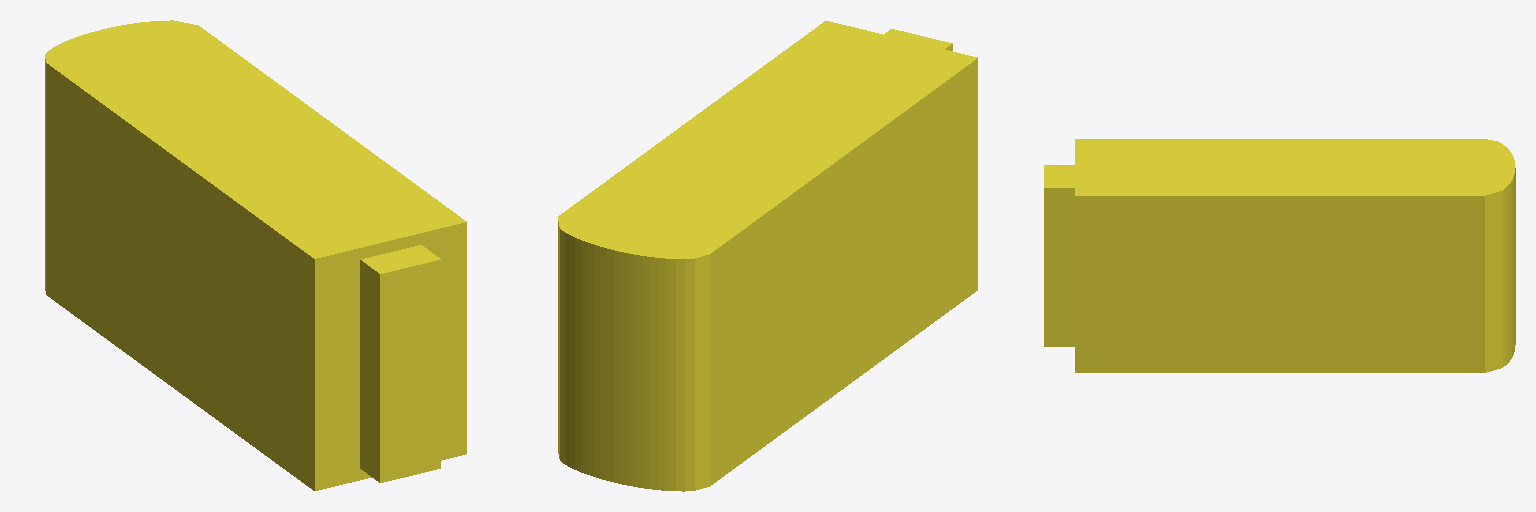
URDF robot description (2v2_65.35_50.50_1.1_63):
<?xml version="1.0" ?>
<robot name="2v2_65.35_50.50_1.1_63">

    <link name="palm">
        <visual>
            <origin rpy="0 0 0" xyz="0 0 0"/>
            <geometry>
                <mesh filename="obj_files/palm.obj" scale="1 1 1"/>
            </geometry>
        </visual>
        <collision>
            <geometry>
                <mesh filename="obj_files/palm_collision.obj" scale="1 1 1"/>
            </geometry>
        </collision>
    </link>

    <link name="finger0_segment0">
        <visual>
            <origin rpy="0 0 0" xyz="0 0 0"/>
            <geometry>
                <mesh filename="obj_files/finger0_segment0.obj" scale="1 1 1"/>
            </geometry>
        </visual>
        <collision>
            <geometry>
                <mesh filename="obj_files/finger0_segment0_collision.obj" scale="1 1 1"/>
            </geometry>
        </collision>
    </link>

    <joint name="finger0_segment0_joint" type="revolute">
        <parent link="palm"/>
        <child link="finger0_segment0"/>
        <origin rpy="0 0 0" xyz="0.03175 0 0.0"/>
        <axis xyz="0 0 1"/>
        <limit effort="1000.0" lower="-3.14" upper="3.14" velocity="0.5"/>
    </joint>

    <link name="finger0_segment1">
        <visual>
            <origin rpy="0 0 0" xyz="0 0 0"/>
            <geometry>
                <mesh filename="obj_files/finger0_segment1.obj" scale="1 1 1"/>
            </geometry>
        </visual>
        <collision>
            <geometry>
                <mesh filename="obj_files/finger0_segment1_collision.obj" scale="1 1 1"/>
            </geometry>
        </collision>
    </link>

    <joint name="finger0_segment1_joint" type="revolute">
        <parent link="finger0_segment0"/>
        <child link="finger0_segment1"/>
        <origin rpy="0 0 0" xyz="0 0.0936 0"/>
        <axis xyz="0 0 1"/>
        <limit effort="1000.0" lower="-3.14" upper="3.14" velocity="0.5"/>
    </joint>

    <link name="finger1_segment0">
        <visual>
            <origin rpy="0 0 0" xyz="0 0 0"/>
            <geometry>
                <mesh filename="obj_files/finger1_segment0.obj" scale="1 1 1"/>
            </geometry>
        </visual>
        <collision>
            <geometry>
                <mesh filename="obj_files/finger1_segment0_collision.obj" scale="1 1 1"/>
            </geometry>
        </collision>
    </link>

    <joint name="finger1_segment0_joint" type="revolute">
        <parent link="palm"/>
        <child link="finger1_segment0"/>
        <origin rpy="0 0 0" xyz="-0.03175 0 3.888253587292846e-18"/>
        <axis xyz="0 0 1"/>
        <limit effort="1000.0" lower="-3.14" upper="3.14" velocity="0.5"/>
    </joint>

    <link name="finger1_segment1">
        <visual>
            <origin rpy="0 0 0" xyz="0 0 0"/>
            <geometry>
                <mesh filename="obj_files/finger1_segment1.obj" scale="1 1 1"/>
            </geometry>
        </visual>
        <collision>
            <geometry>
                <mesh filename="obj_files/finger1_segment1_collision.obj" scale="1 1 1"/>
            </geometry>
        </collision>
    </link>

    <joint name="finger1_segment1_joint" type="revolute">
        <parent link="finger1_segment0"/>
        <child link="finger1_segment1"/>
        <origin rpy="0 0 0" xyz="0 0.072 0"/>
        <axis xyz="0 0 1"/>
        <limit effort="1000.0" lower="-3.14" upper="3.14" velocity="0.5"/>
    </joint>

</robot>

--- What the picture shows (computed from the rendered views, not written in the file) ---
Views: 3 orthographic renders of the robot side by side, from view 1: azimuth 30°, elevation 25°; view 2: azimuth 150°, elevation 25°; view 3: azimuth 270°, elevation 25°.
Robot: 2v2_65.35_50.50_1.1_63 — 5 links, 4 joints (4 revolute); root link palm; default pose: all joints at 0.
Visible links, largest first — view 1: finger1_segment0; view 2: finger1_segment0; view 3: finger1_segment0.
Link boxes in pixels (x1,y1,x2,y2): finger1_segment0: (45,20,466,490); finger1_segment0: (558,21,977,491); finger1_segment0: (1044,139,1515,372).
Bounding box of the posed robot: 0.022 × 0.077 × 0.032 m (x, y, z).
1 mesh visuals loaded from 5 distinct referenced files (1 OBJ); not drawn: 4 (reference not matched to a file when rendering).